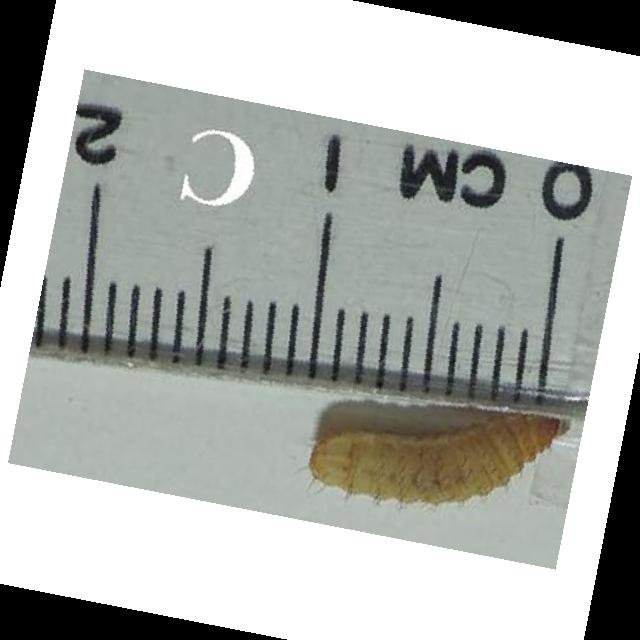Maggot: (308, 407, 572, 502)
